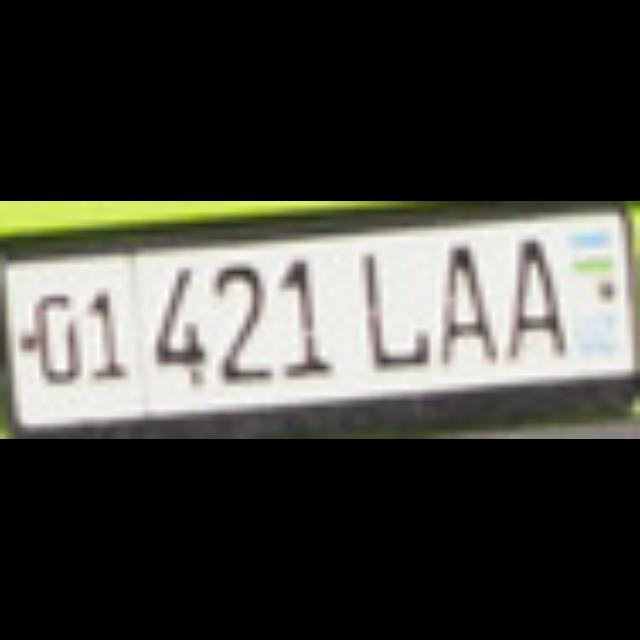0: (28, 290, 68, 378)
1: (273, 248, 327, 372), (74, 283, 116, 372)
2: (204, 255, 258, 378)
4: (143, 262, 191, 378)
A: (498, 228, 558, 352), (430, 235, 490, 358)
L: (354, 249, 422, 365)
